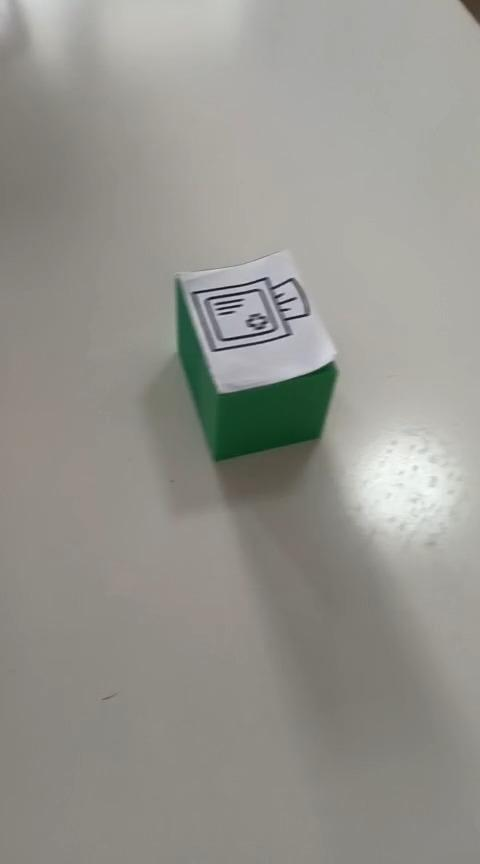Gauze: (172, 247, 339, 463)
